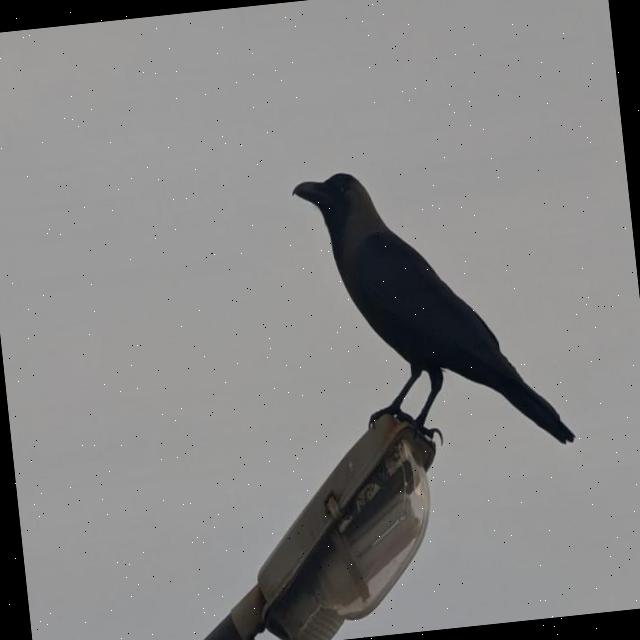crow: (284, 142, 580, 480)
